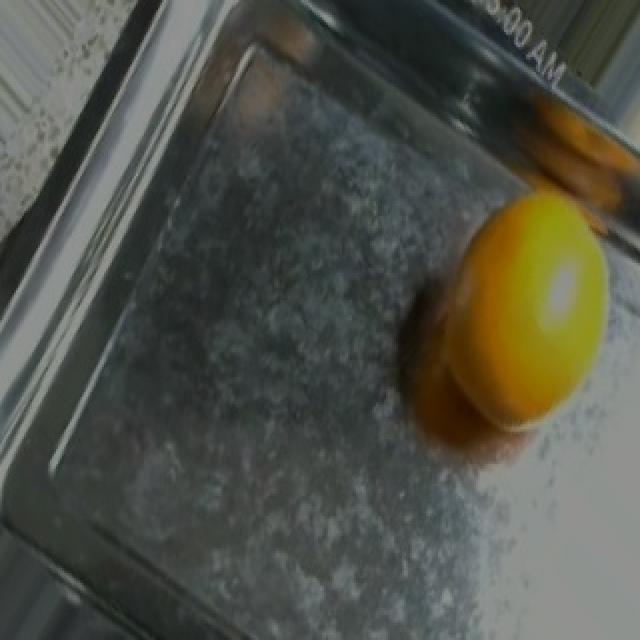Fruit: (418, 169, 640, 449)
